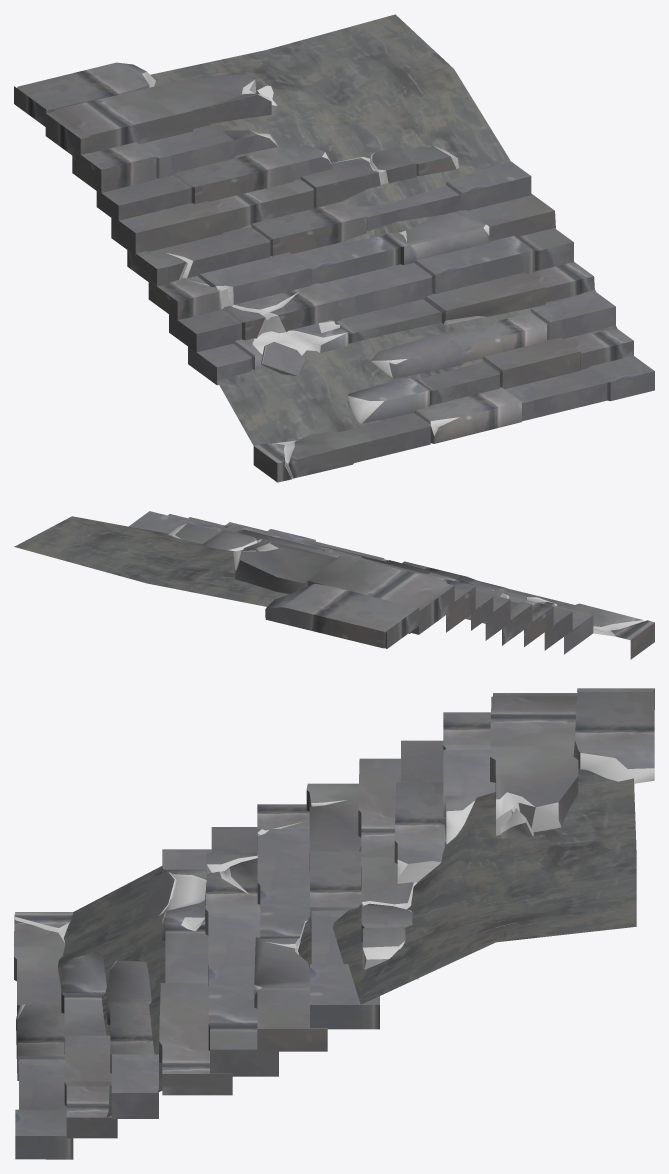
Rendered from SM_Alt_Sta_01AM.fbx.
3 views of the same model, one above another, from view 1: azimuth 30°, elevation 25°; view 2: azimuth 150°, elevation 25°; view 3: azimuth 270°, elevation 25° (orthographic). The views are drawn at different scales.
Visible parts, largest first — view 1: SM_Alt_Sta_01AM.mo; view 2: SM_Alt_Sta_01AM.mo; view 3: SM_Alt_Sta_01AM.mo.
Boxes of the visible parts, bbox=[...] form: SM_Alt_Sta_01AM.mo: bbox=[14, 14, 654, 482]; SM_Alt_Sta_01AM.mo: bbox=[14, 511, 654, 659]; SM_Alt_Sta_01AM.mo: bbox=[14, 688, 654, 1159].
Size of the model in its own units: 6.15 by 3.17 by 7.44.
